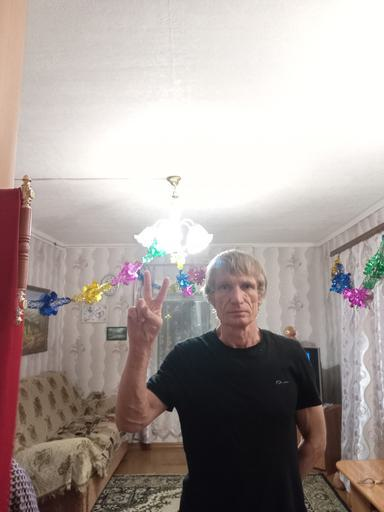peace: (125, 268, 172, 348)
